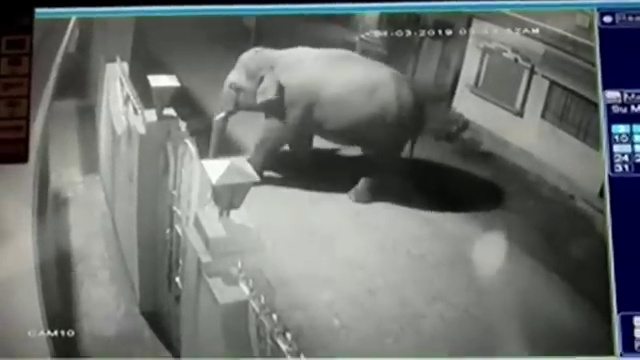Elephant: (207, 46, 423, 204)
